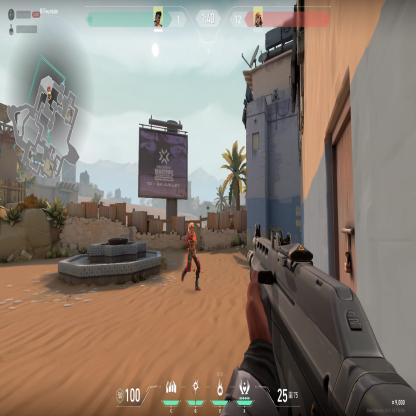enemy: (180, 221, 202, 291)
